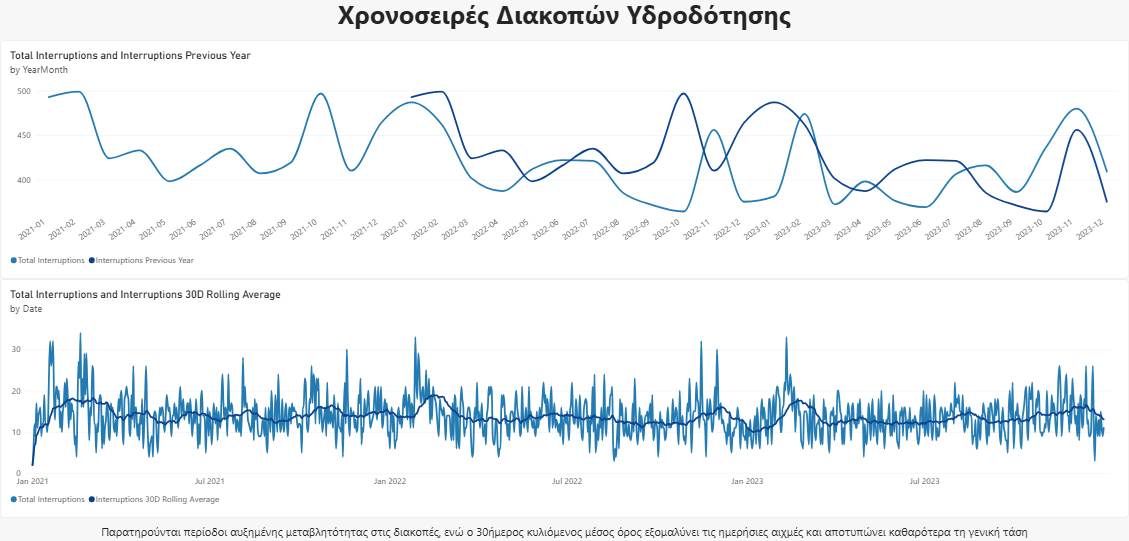

The dashboard page shown, as its layout file describes it:
{"tool":"powerbi","page":{"name":"Time Analysis","canvas":[1920,1080],"ordinal":2},"visuals":[{"type":"textbox","box":[10.2,0,1909.8,86.1],"z":0},{"type":"lineChart","fields":{"Category":["Date_Table.YearMonth"],"Y":["NoWater_History.Total Interruptions","NoWater_History.Interruptions Previous Year"]},"box":[10.2,72.9,1909.8,404.1],"z":1},{"type":"lineChart","fields":{"Category":["Date_Table.Date"],"Y":["NoWater_History.Total Interruptions","NoWater_History.Interruptions 30D Rolling Average"]},"box":[10.2,477.1,1910,404],"z":2},{"type":"textbox","box":[10,891,1910,189],"z":3}]}

Visuals, with their boxes on the page's 1920x1080 design canvas (x1, y1, x2, y2). These are canvas units, not pixel positions in the 1129x541 screenshot, which may show the page scaled, cropped or inside an application window:
textbox: select_region(10, 0, 1920, 86)
lineChart - Date_Table.YearMonth x NoWater_History.Total Interruptions: select_region(10, 73, 1920, 477)
lineChart - Date_Table.Date x NoWater_History.Total Interruptions: select_region(10, 477, 1920, 881)
textbox: select_region(10, 891, 1920, 1080)
